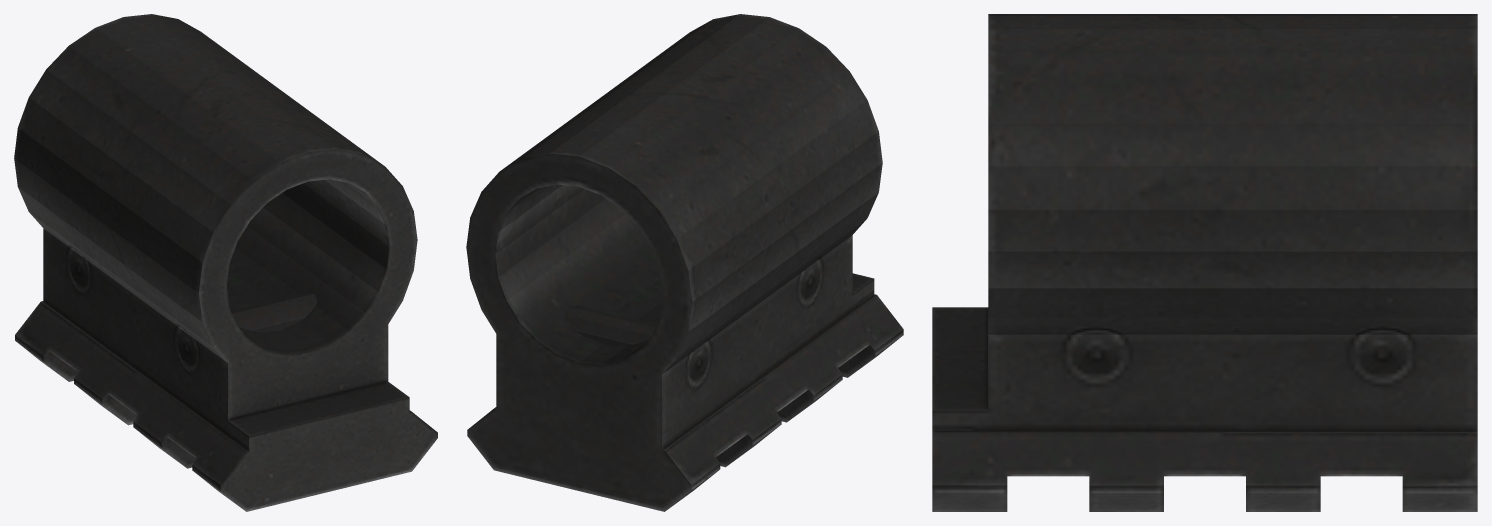
3 views of the same model, side by side, from view 1: azimuth 30°, elevation 25°; view 2: azimuth 150°, elevation 25°; view 3: azimuth 270°, elevation 25° (orthographic). The views are drawn at different scales.
Visible parts, largest first — view 1: TW_660126a98f2b23af220b27e7_PZ_Import; view 2: TW_660126a98f2b23af220b27e7_PZ_Import; view 3: TW_660126a98f2b23af220b27e7_PZ_Import.
Boxes of the visible parts, x1,y1,x2,y2 form: TW_660126a98f2b23af220b27e7_PZ_Import: [14, 14, 437, 511]; TW_660126a98f2b23af220b27e7_PZ_Import: [466, 14, 903, 511]; TW_660126a98f2b23af220b27e7_PZ_Import: [932, 14, 1477, 511].
Bounding box in the file's own units: 0.0124 × 0.0201 × 0.0175.
1 material, 1 textured.
